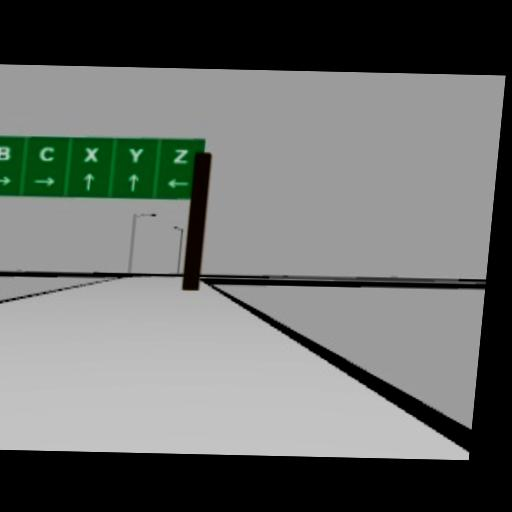B: (0, 144, 12, 159)
C: (38, 145, 55, 160)
Left: (165, 176, 190, 189)
Right: (31, 175, 56, 186), (0, 174, 14, 185)
Straight: (81, 171, 95, 190), (125, 172, 139, 189)
X: (82, 146, 99, 161)
Y: (126, 147, 143, 162)
Z: (171, 148, 190, 163)
